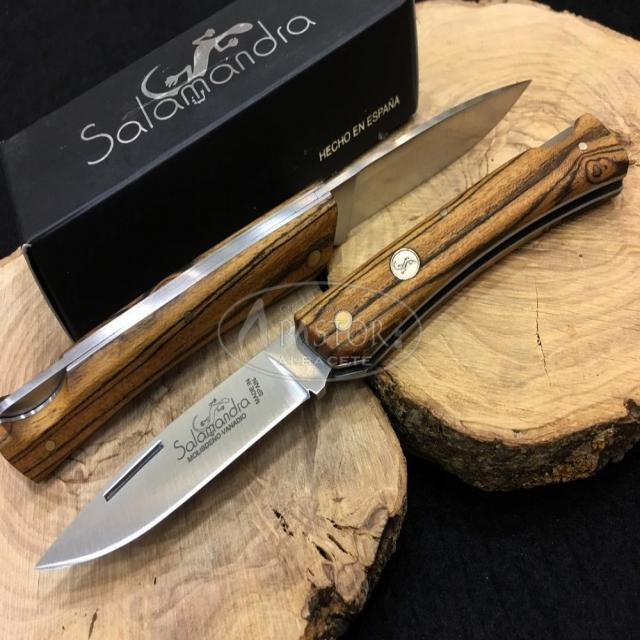knife: (33, 106, 634, 579), (1, 68, 537, 502)
